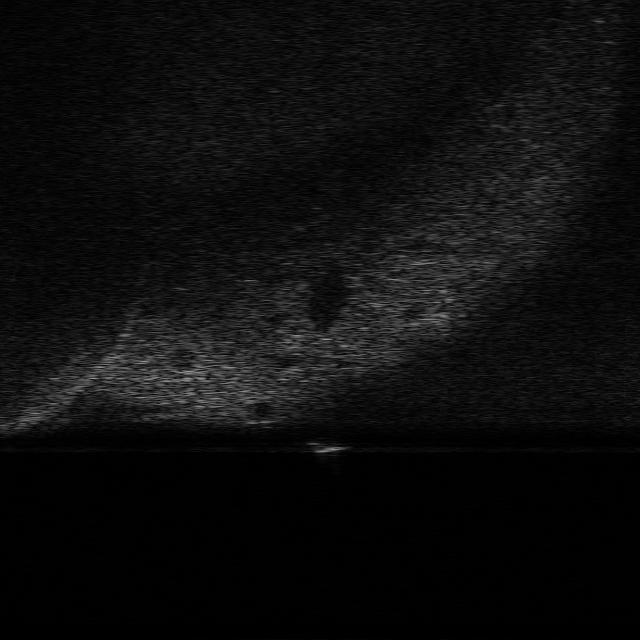cube: (302, 437, 348, 459)
